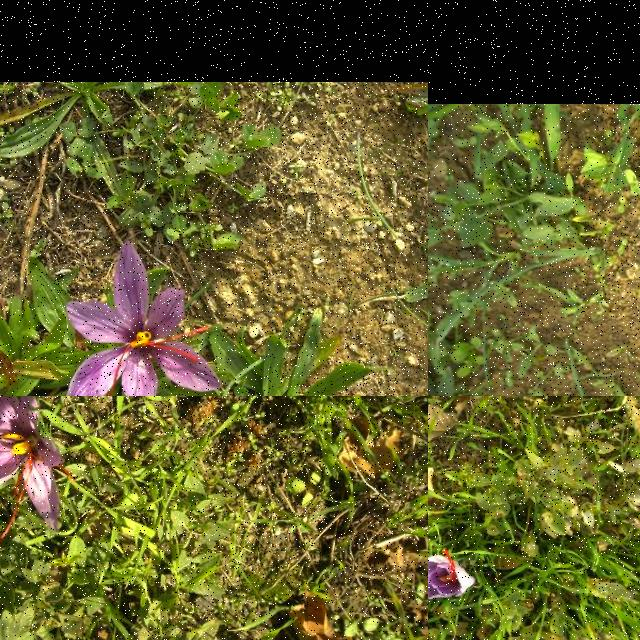flower: (65, 241, 222, 396), (0, 396, 71, 552), (428, 549, 475, 601)
